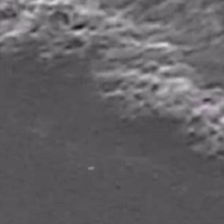Target: (86, 165, 96, 171)
